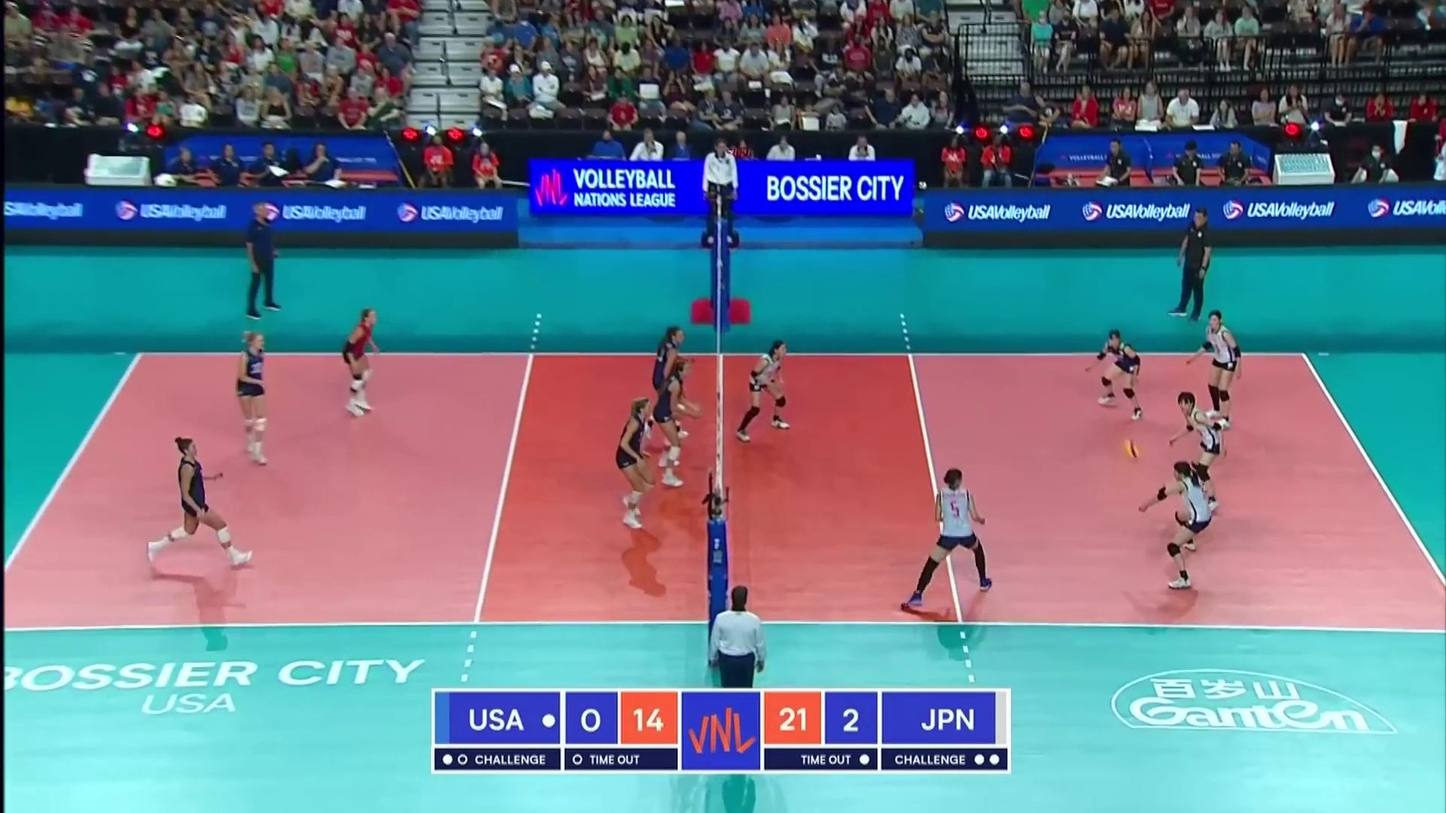player: (146, 436, 253, 572), (902, 466, 992, 613), (1140, 462, 1217, 590), (1185, 310, 1244, 429), (1167, 393, 1224, 513), (655, 359, 700, 485), (642, 327, 690, 441), (739, 339, 792, 439), (616, 396, 654, 529), (1086, 331, 1143, 417), (236, 330, 272, 463), (342, 308, 379, 417)
refree: (708, 588, 767, 688), (705, 141, 738, 245)
